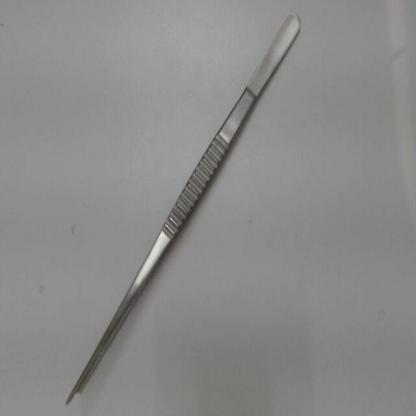DeBakey Dissector: (52, 7, 317, 412)
